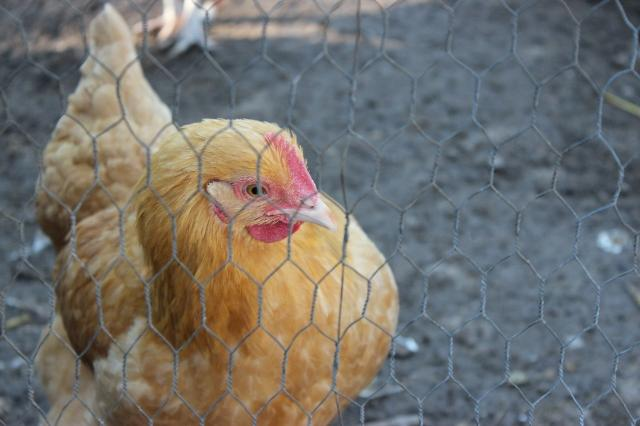Chicken: (34, 0, 399, 426)
